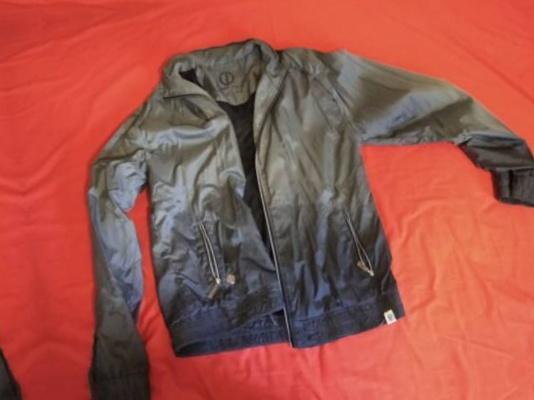Blazer: (11, 7, 534, 400), (0, 89, 56, 400), (72, 385, 534, 400)
